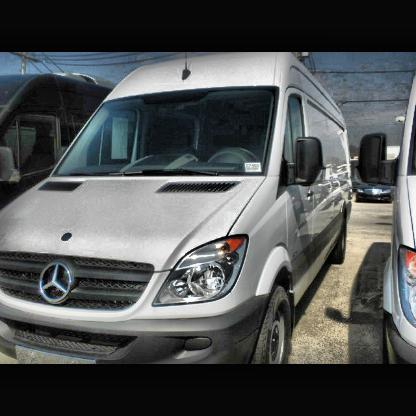Mercedes-Benz Sprinter Van 2012: (2, 55, 352, 364)
